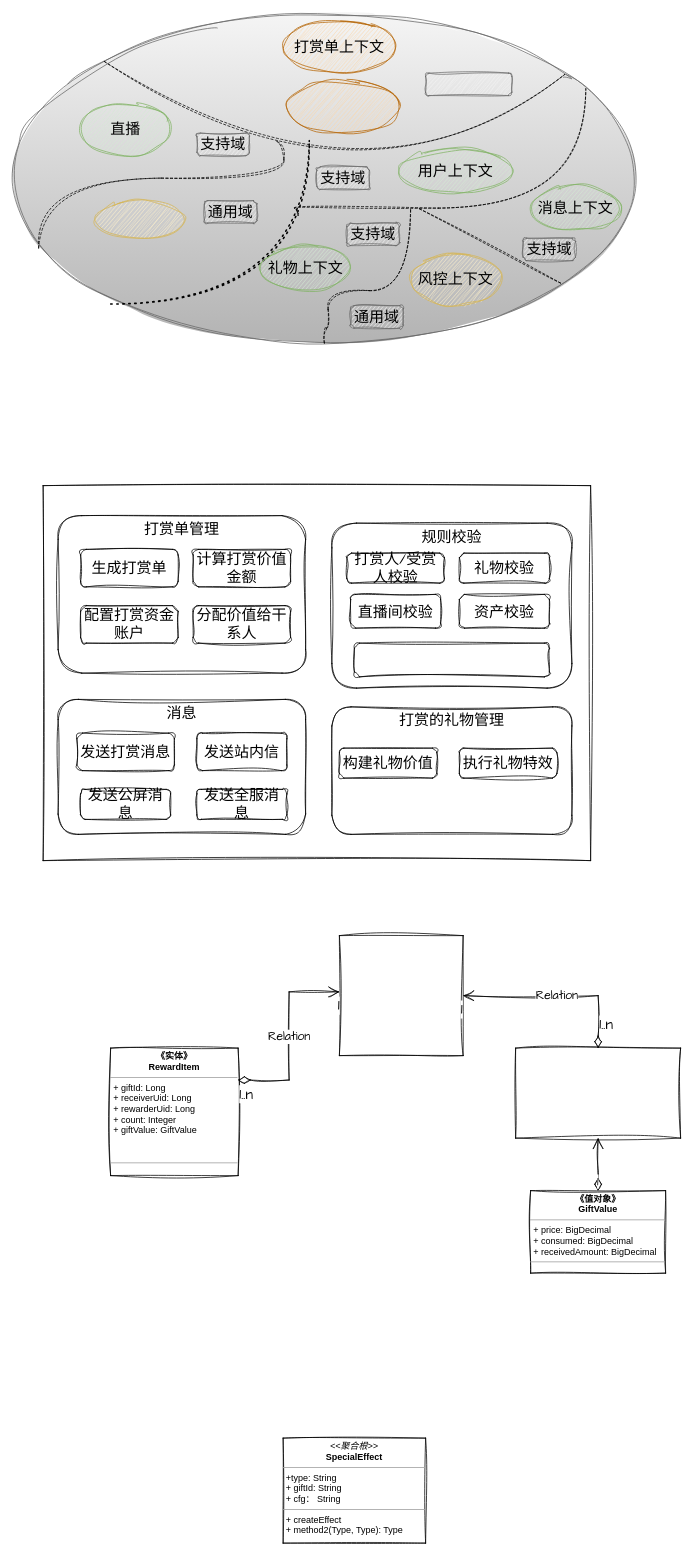
The diagram is 694 pixels wide and 1556 high, and some of its shapes have lost their labels. Each missing label, with the centre of its shape:
《值对象》 RewardGift +giftValue: GiftValue + method(): Type: point 598,1092
《聚合根》 RewardOrder + id: String + + calculateOrderAmount(): Type: point 401,995
打赏流程限制校验: point 451,659
打赏的礼物上下文: point 342,106
支付上下文: point 140,219
核心域: point 468,84
